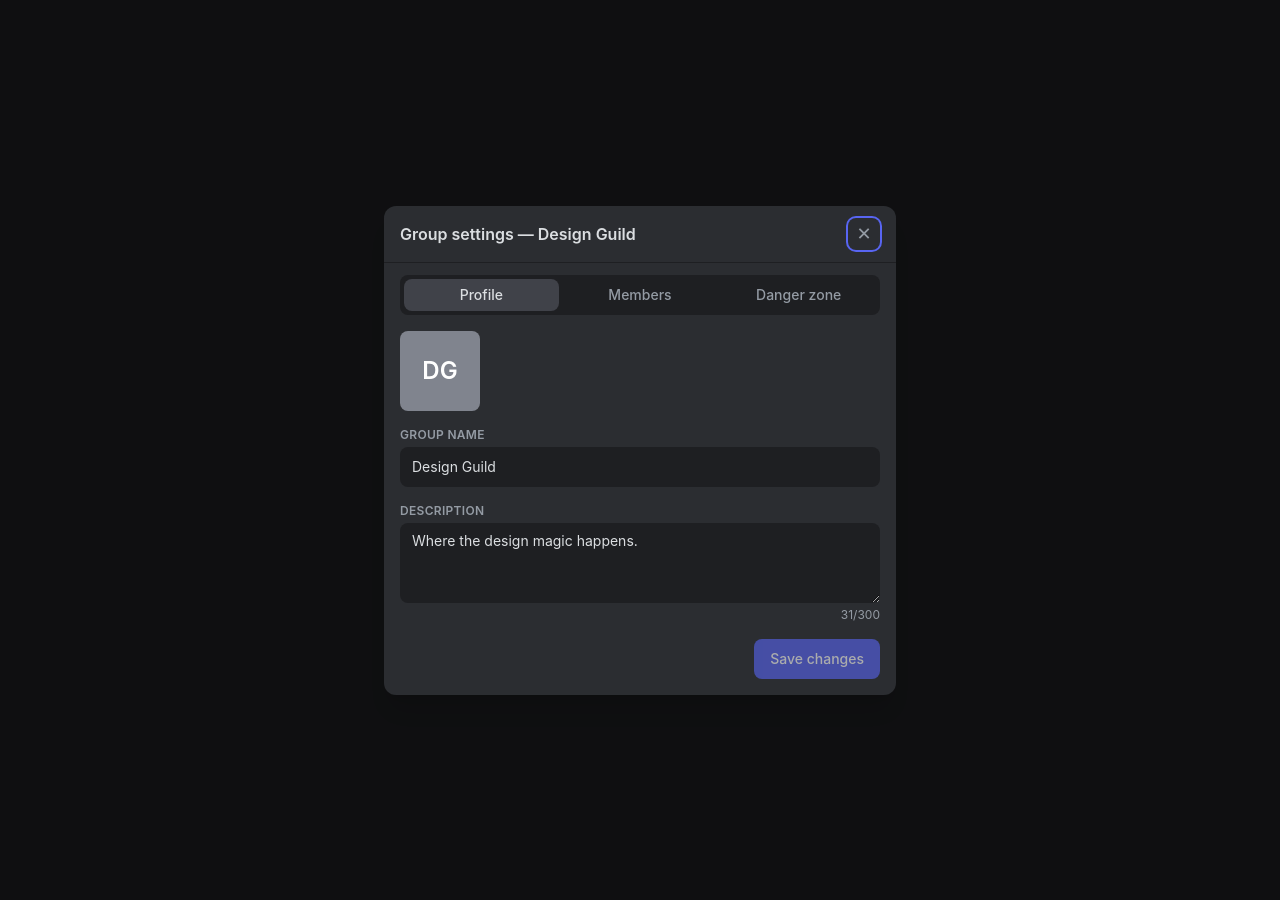
it: GroupSettingsModal › shows danger zone with Leave and Delete buttons
The image size is (1280, 900).
Click the tab "Danger zone" at {"x": 799, "y": 294}, box [721, 278, 876, 310]
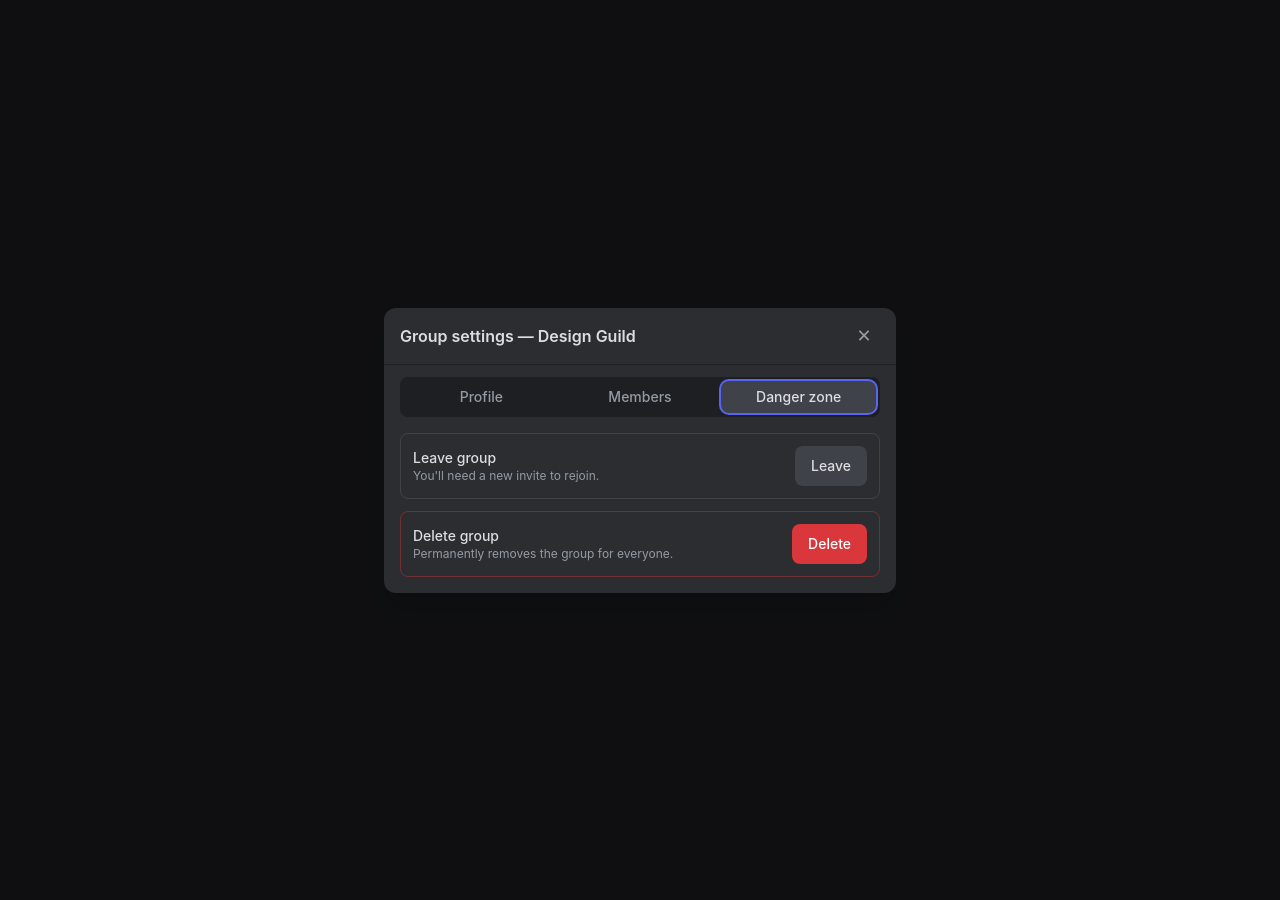
Result: the button "Leave" is shown at [795, 446, 867, 486]
Result: the button "Delete" is shown at [792, 524, 867, 564]
